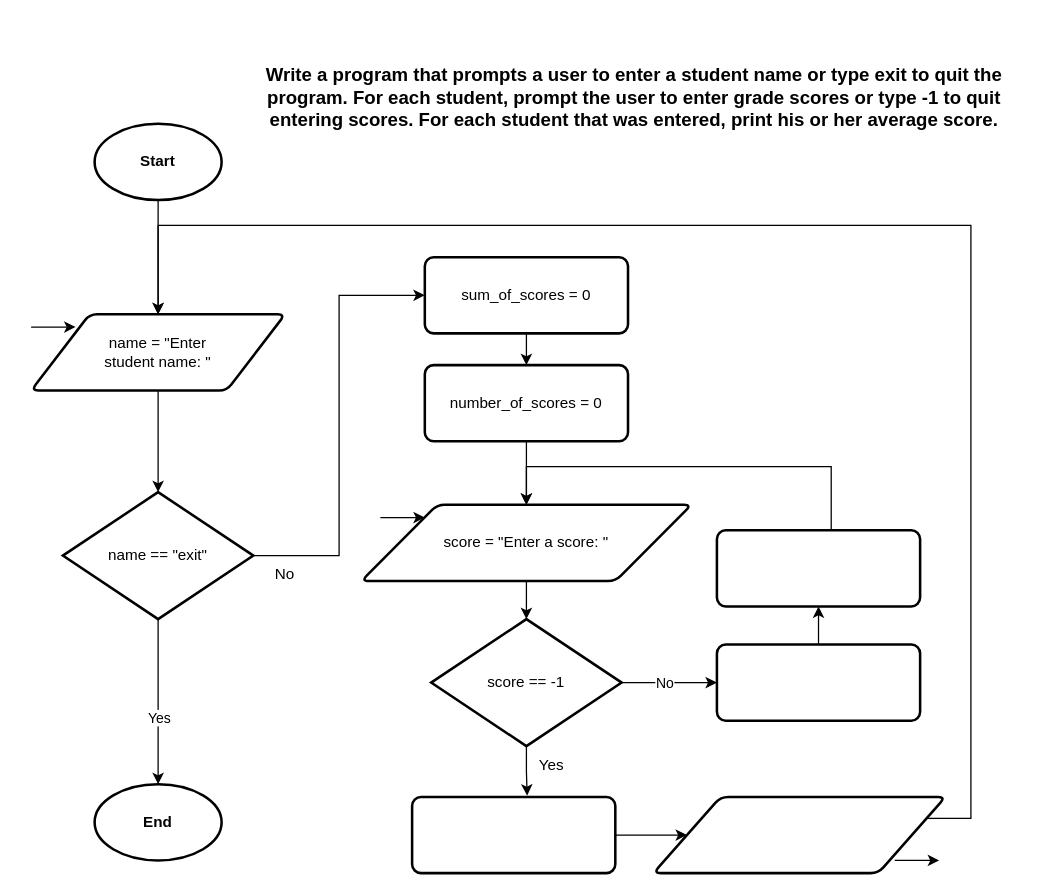
The diagram is 1038 pixels wide and 895 high, and some of its shapes have lost their labels. The centre of each missing label's shape, as x and y in pixels:
average = sum_of_scores / number_of_scores: [513,834]
number_of_scores = += 1: [818,567]
output: "Student: " + name "Average score: " + average: [799,834]
sum_of_scores += score: [818,682]
